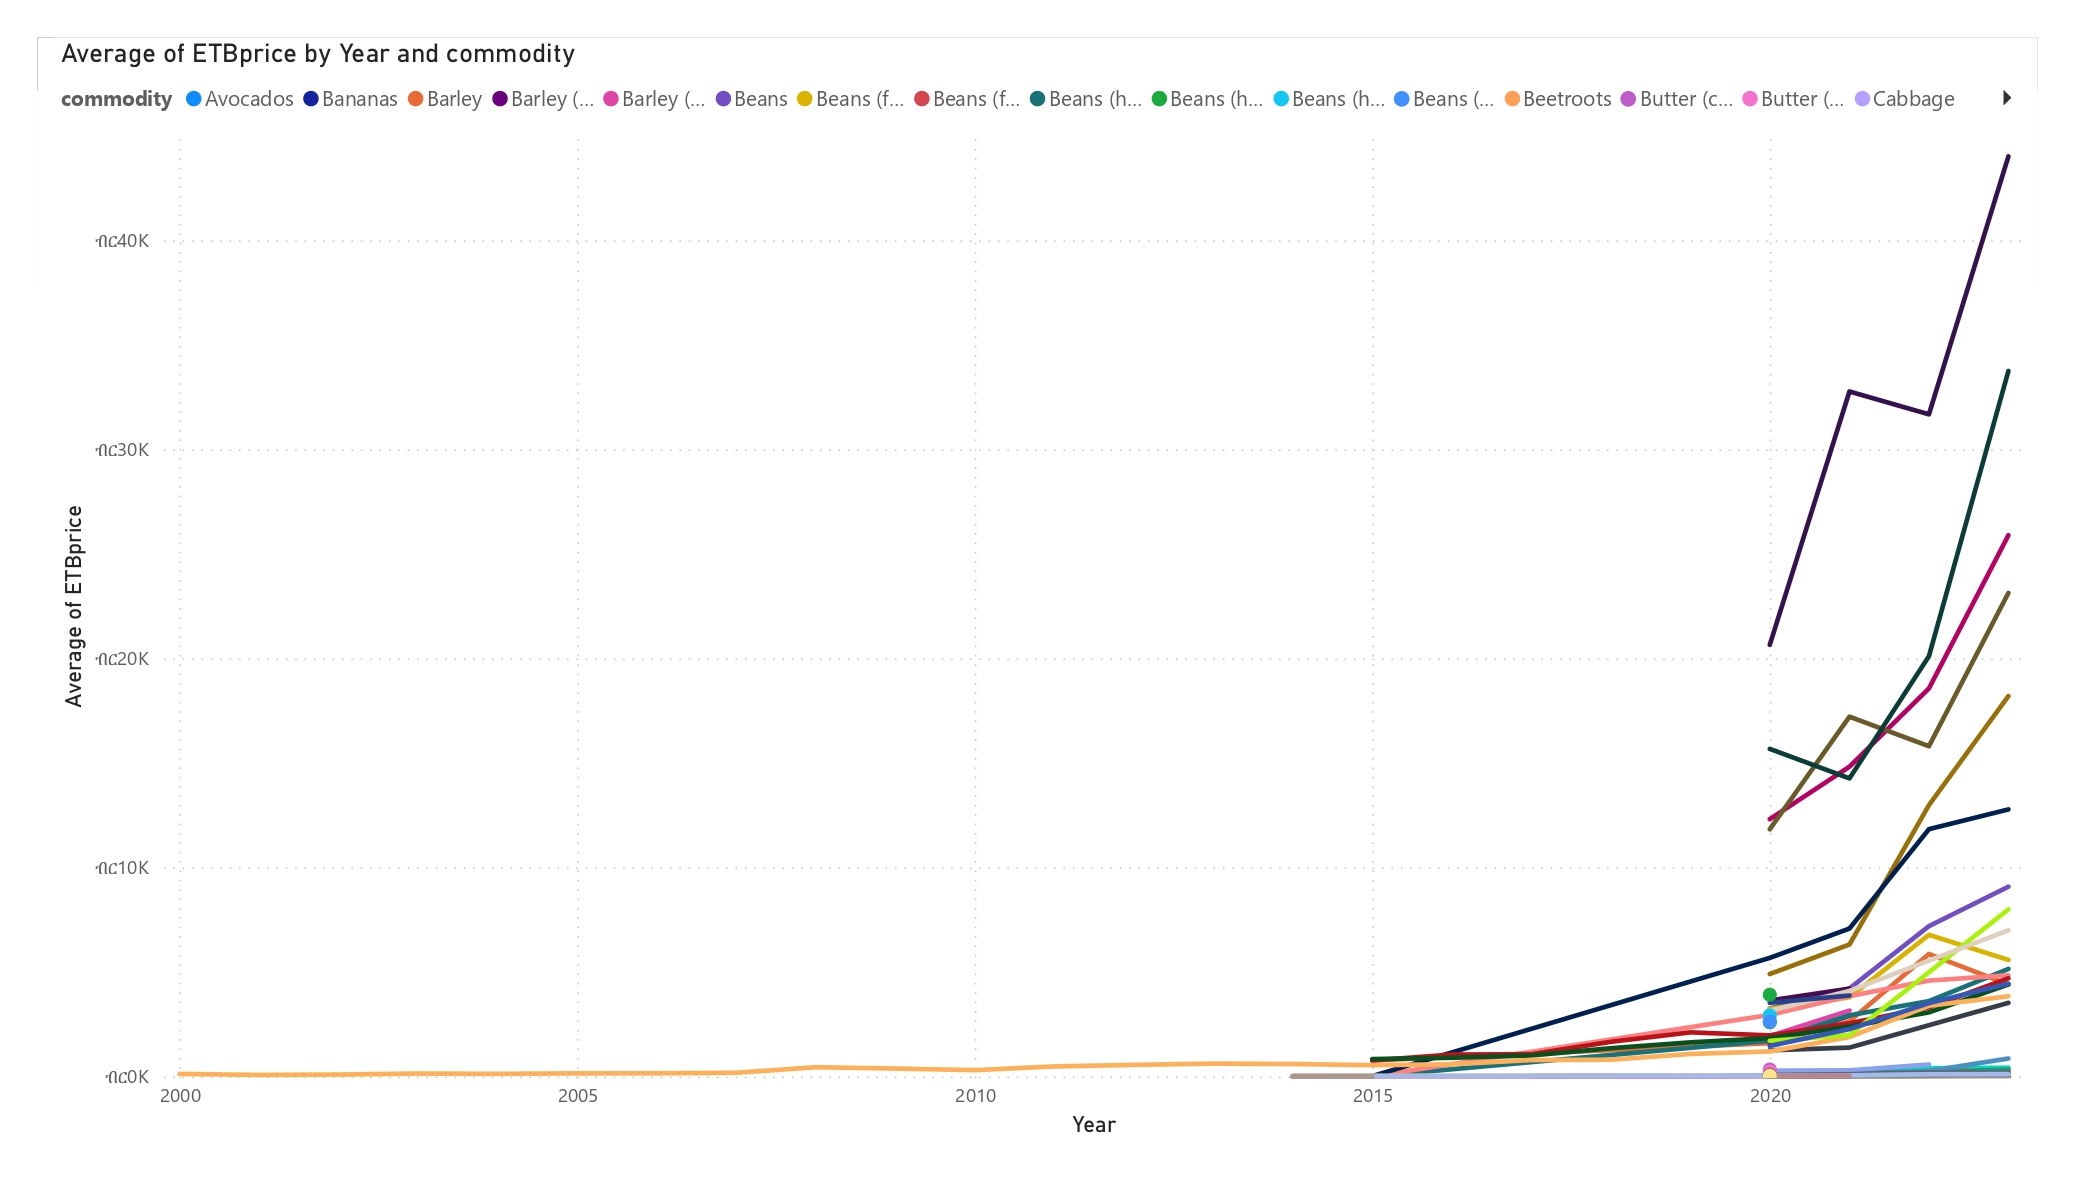

This screenshot's page, from the dashboard's own definition file:
{"tool":"powerbi","page":{"name":"Price change per time","canvas":[1280,720],"ordinal":3},"visuals":[{"type":"lineChart","fields":{"Category":["wfp_food_prices_eth.date.Variation.Date Hierarchy.Year","wfp_food_prices_eth.date.Variation.Date Hierarchy.Quarter","wfp_food_prices_eth.date.Variation.Date Hierarchy.Month","wfp_food_prices_eth.date.Variation.Date Hierarchy.Day"],"Y":["Avg(wfp_food_prices_eth.ETBprice)"],"Series":["wfp_food_prices_eth.commodity"]},"box":[10,0,1270,708.3],"z":0}]}

Visuals, with their boxes in screenshot pixels (x1, y1, x2, y2):
lineChart - wfp_food_prices_eth.date.Variation.Date Hierarchy.Year x wfp_food_prices_eth.date.Variation.Date Hierarchy.Quarter: (x1=53, y1=38, x2=2038, y2=1144)
